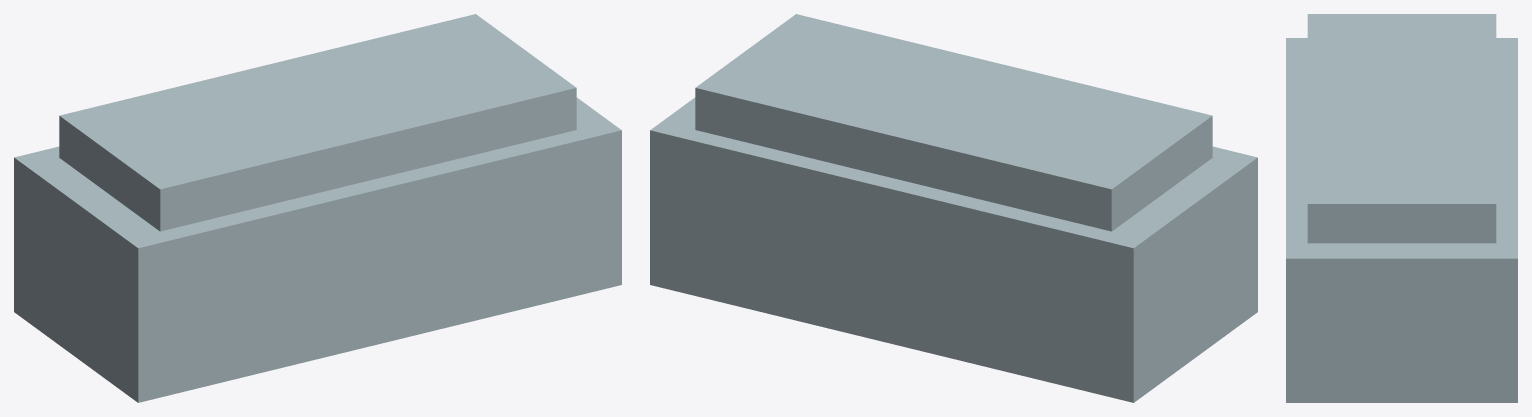
The model's file is iron_ingot.glb.
3 views of the same model, side by side, from view 1: azimuth 30°, elevation 25°; view 2: azimuth 150°, elevation 25°; view 3: azimuth 270°, elevation 25° (orthographic). The views are drawn at different scales.
Parts seen in each view (by area): view 1: iron_ingot; view 2: iron_ingot; view 3: iron_ingot.
Boxes of the visible parts, bbox=[...] form: iron_ingot: bbox=[14, 14, 621, 402]; iron_ingot: bbox=[650, 14, 1257, 402]; iron_ingot: bbox=[1286, 14, 1517, 402].
Bounding box in the file's own units: 1.8 × 0.7 × 0.8.
